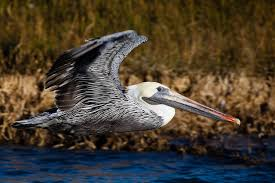pelican: (15, 30, 238, 133)
